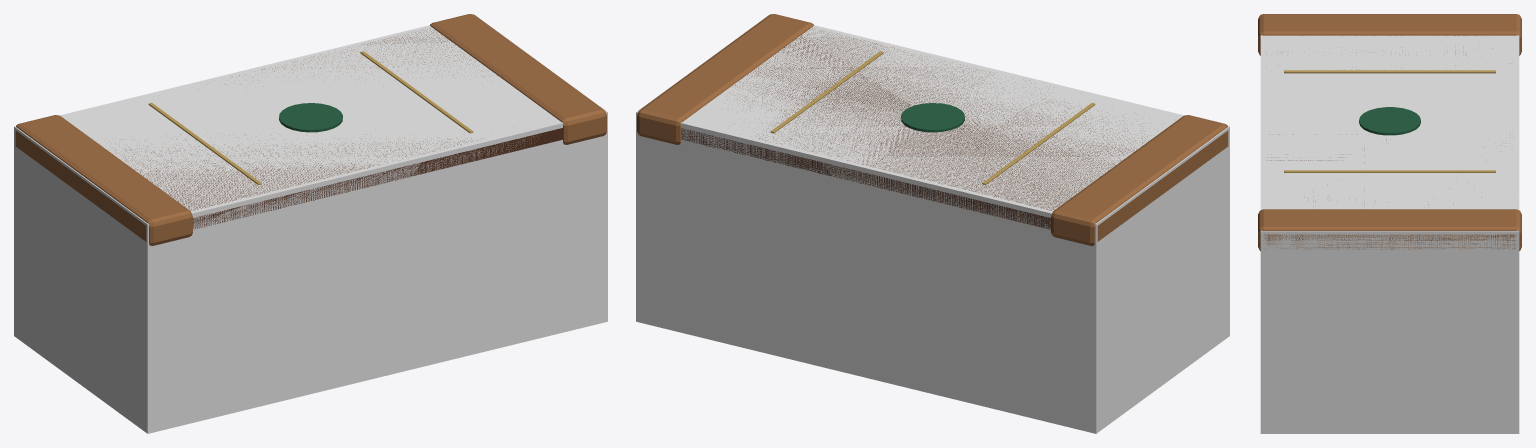
Rendered from executive.glb.
The picture shows the model from 3 angles, left to right: view 1: azimuth 30°, elevation 25°; view 2: azimuth 150°, elevation 25°; view 3: azimuth 270°, elevation 25°; orthographic projection. The views are drawn at different scales.
Parts seen in each view (by area): view 1: COL_TABLES_EXECUTIVE, Table_BreadboardEnd, Table_Top.004, Table_BreadboardEnd.001, Table_CenterMedallion, Table_Inlay.003, Table_Inlay.002; view 2: COL_TABLES_EXECUTIVE, Table_Top.004, Table_BreadboardEnd, Table_BreadboardEnd.001, Table_CenterMedallion, Table_Inlay.003, Table_Inlay.002; view 3: COL_TABLES_EXECUTIVE, Table_BreadboardEnd.001, Table_BreadboardEnd, Table_CenterMedallion, Table_Inlay.002, Table_Inlay.003.
Boxes of the visible parts, <box> form: COL_TABLES_EXECUTIVE: <box>14,14,607,433</box>; Table_BreadboardEnd: <box>15,115,192,245</box>; Table_Top.004: <box>113,28,562,229</box>; Table_BreadboardEnd.001: <box>430,14,606,144</box>; Table_CenterMedallion: <box>279,103,342,132</box>; Table_Inlay.003: <box>360,51,473,133</box>; Table_Inlay.002: <box>148,103,261,184</box>; COL_TABLES_EXECUTIVE: <box>636,14,1229,433</box>; Table_Top.004: <box>681,28,1147,229</box>; Table_BreadboardEnd: <box>1051,115,1228,245</box>; Table_BreadboardEnd.001: <box>637,14,813,144</box>; Table_CenterMedallion: <box>901,103,964,132</box>; Table_Inlay.003: <box>770,51,883,133</box>; Table_Inlay.002: <box>982,103,1095,184</box>; COL_TABLES_EXECUTIVE: <box>1260,14,1519,433</box>; Table_BreadboardEnd.001: <box>1258,209,1521,250</box>; Table_BreadboardEnd: <box>1258,14,1521,55</box>; Table_CenterMedallion: <box>1359,107,1420,135</box>; Table_Inlay.002: <box>1284,70,1495,73</box>; Table_Inlay.003: <box>1284,170,1495,172</box>.
Size of the model in its own units: 2.38 by 1.05 by 1.22.
